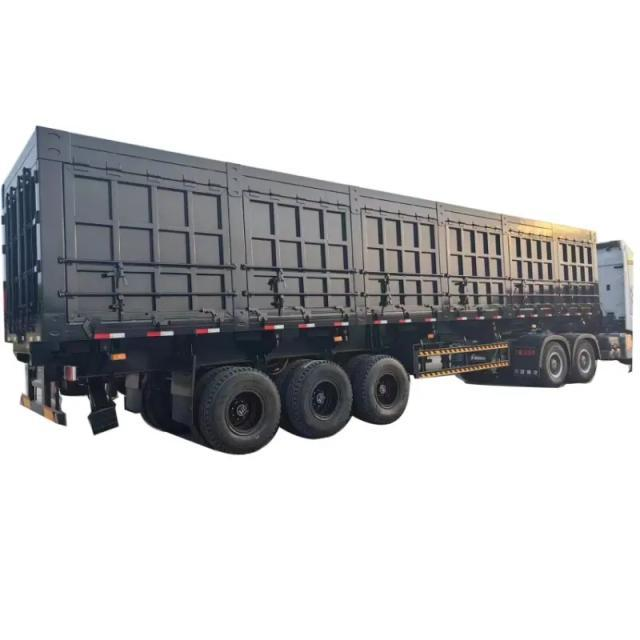traffic light: (1, 123, 634, 454)
